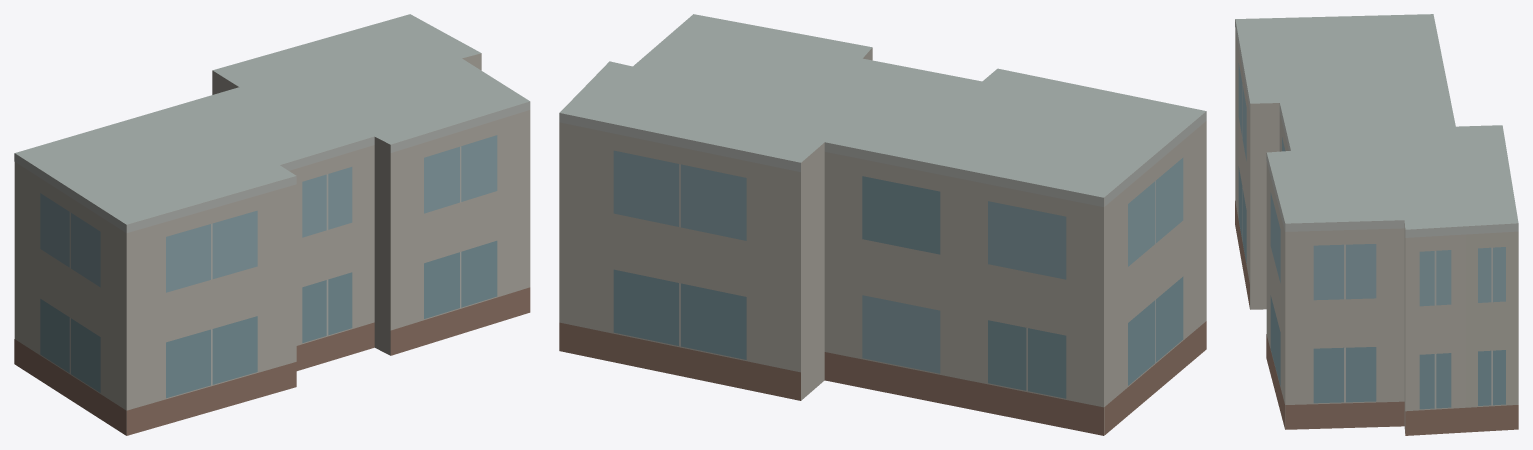
File: survey-upis-33012443.glb
The picture shows the model from 3 angles, left to right: view 1: azimuth 30°, elevation 25°; view 2: azimuth 150°, elevation 25°; view 3: azimuth 270°, elevation 25°; orthographic projection. The views are drawn at different scales.
Visible parts, largest first — view 1: survey-upis-33012443.tmp; view 2: survey-upis-33012443.tmp; view 3: survey-upis-33012443.tmp.
Boxes of the visible parts, <box> form: survey-upis-33012443.tmp: <box>14,14,530,435</box>; survey-upis-33012443.tmp: <box>559,14,1206,435</box>; survey-upis-33012443.tmp: <box>1235,14,1518,435</box>.
Size of the model in its own units: 13.7 by 6.1 by 7.61.
